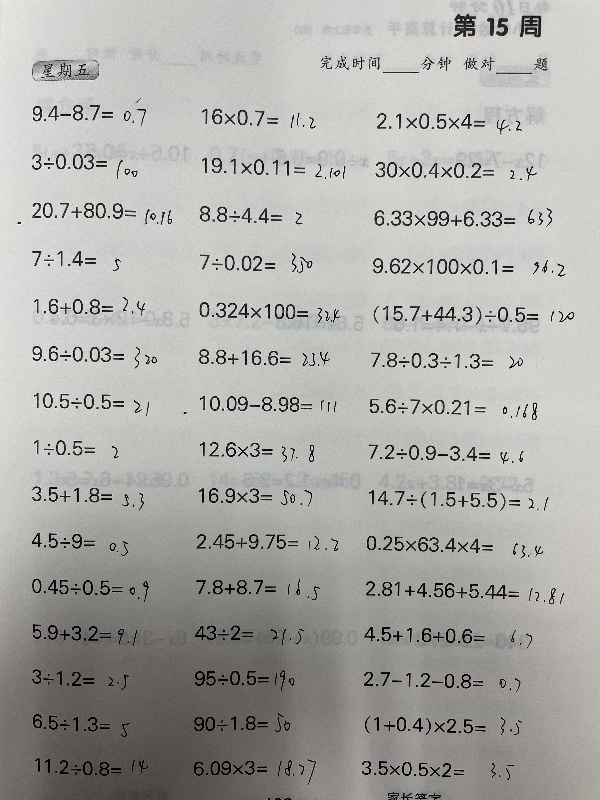equation: (368, 298, 583, 334), (361, 576, 571, 612), (365, 482, 549, 519), (367, 253, 570, 286), (368, 201, 559, 236), (361, 531, 544, 563), (360, 623, 537, 655), (358, 711, 524, 744), (360, 668, 525, 701), (364, 394, 543, 424), (372, 157, 538, 188), (25, 197, 175, 230), (192, 527, 342, 559), (358, 758, 514, 787), (365, 347, 525, 375), (194, 572, 324, 606), (28, 93, 150, 129), (27, 617, 139, 656), (194, 471, 315, 507), (187, 754, 319, 787), (30, 574, 152, 609), (26, 529, 134, 566), (371, 108, 524, 134), (363, 440, 526, 464), (191, 620, 306, 654), (27, 341, 160, 370), (194, 297, 342, 323), (197, 154, 348, 179), (195, 250, 314, 280), (35, 752, 149, 783), (195, 391, 340, 415), (27, 148, 141, 178), (192, 665, 297, 697), (193, 344, 332, 368), (29, 665, 131, 697), (27, 482, 147, 509), (28, 388, 152, 414), (194, 437, 317, 463), (29, 710, 131, 741), (28, 291, 147, 317), (29, 435, 124, 467), (196, 105, 318, 129), (29, 246, 124, 276), (192, 714, 292, 741), (194, 202, 304, 226)
